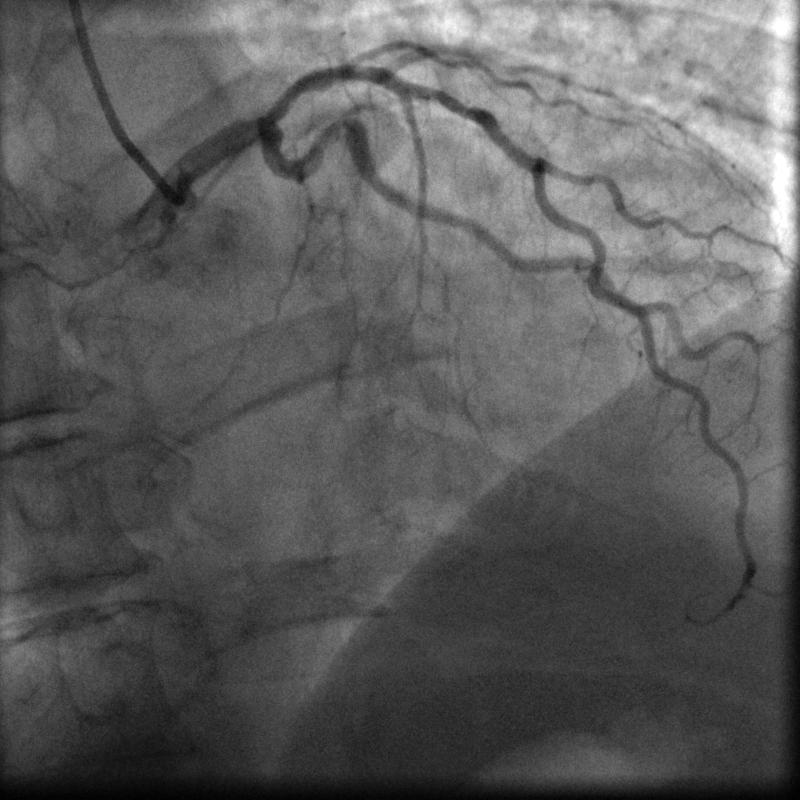Stenosis: (315, 115, 360, 142)
